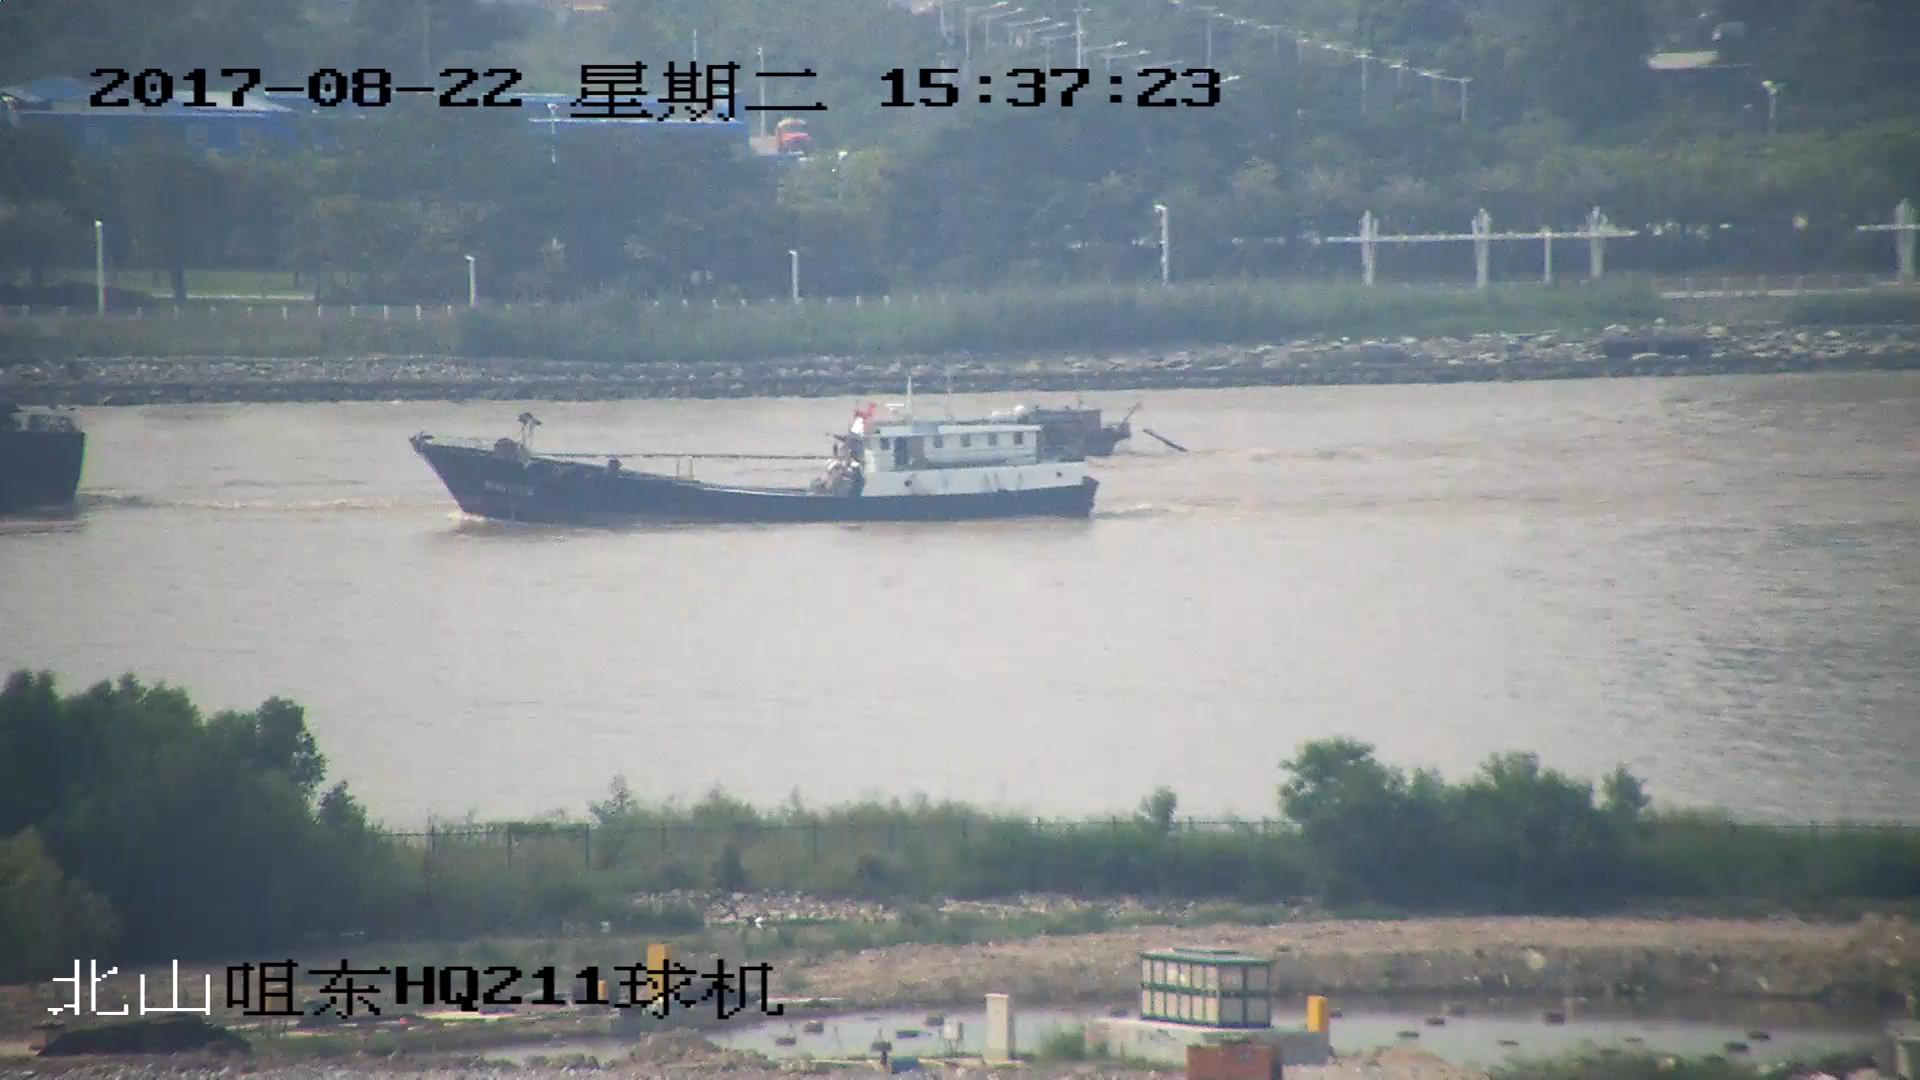fishing boat: (414, 416, 1097, 529), (836, 410, 1193, 459)
